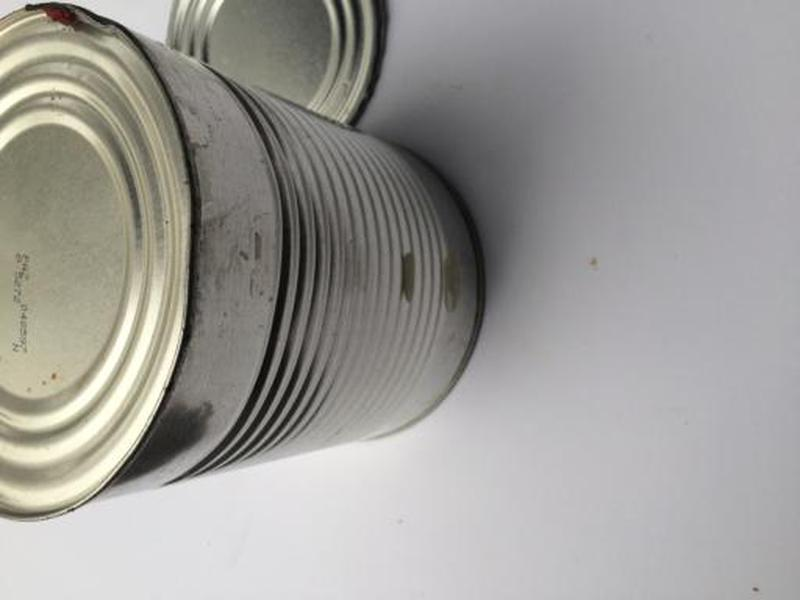can: (1, 1, 493, 528)
